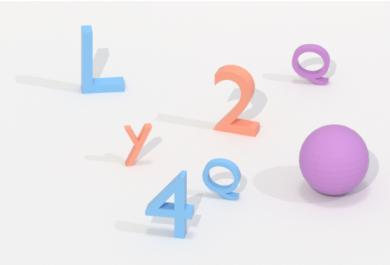0-Tron: (294, 120, 373, 201)
2: (208, 62, 265, 141)
4: (139, 165, 196, 245)
L: (76, 21, 131, 100)
Q: (287, 38, 340, 89), (197, 153, 244, 206)
y: (117, 120, 158, 169)
